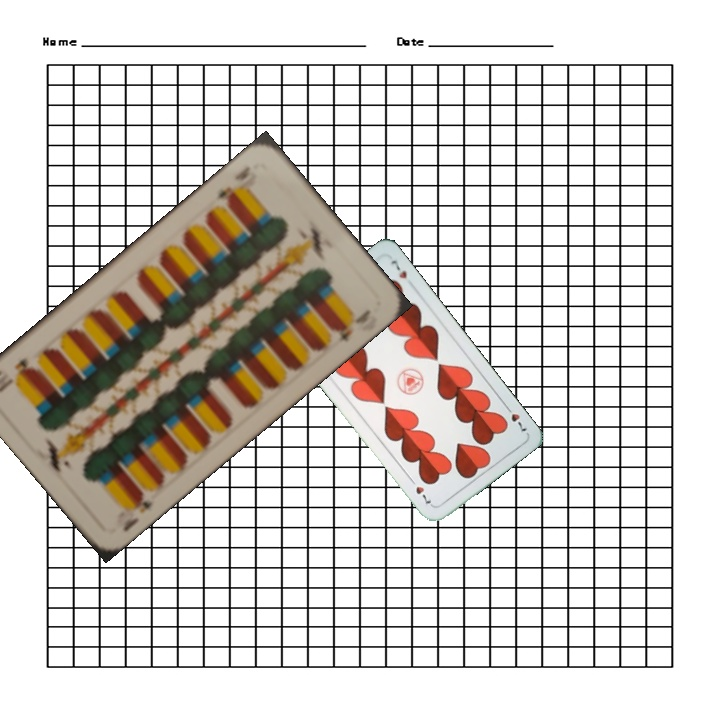E10: (213, 162, 253, 207), (119, 487, 156, 535)
H7: (500, 400, 530, 434)
